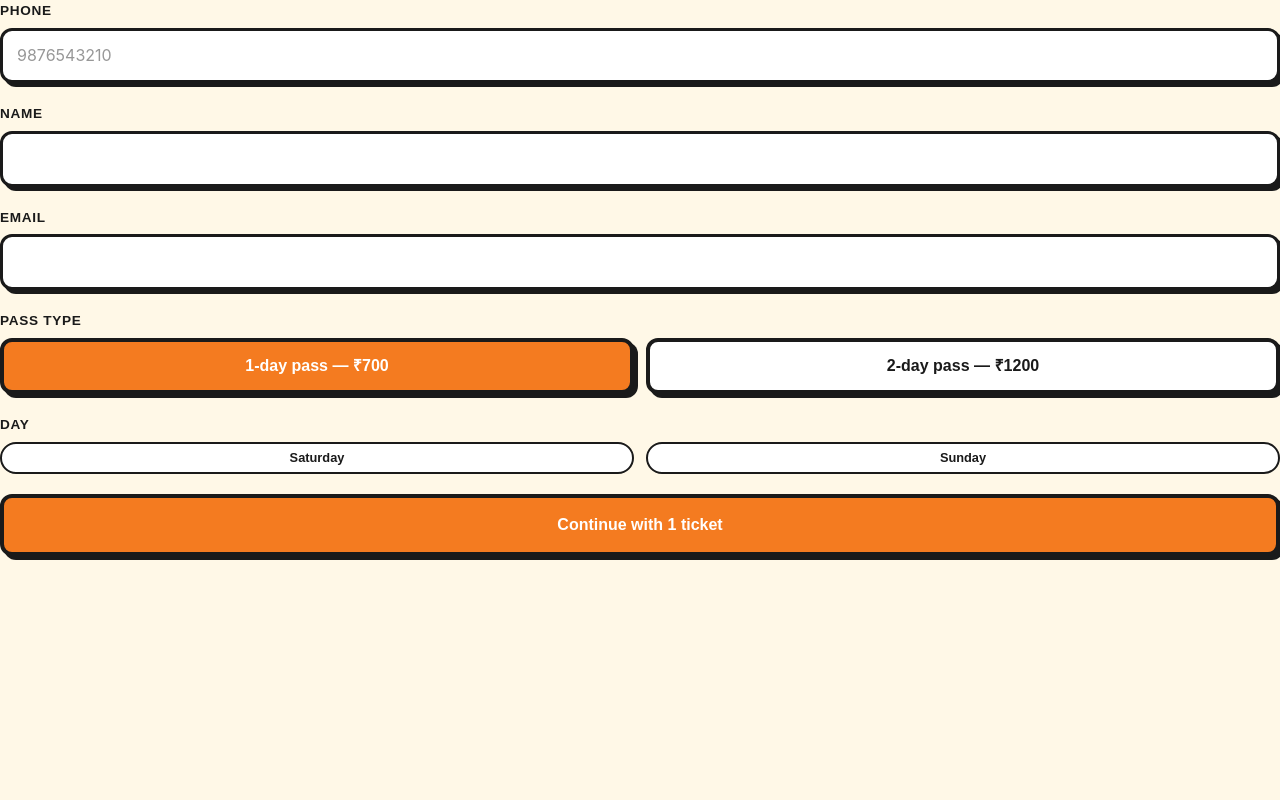
Scenario: RegisterForm › limits ticket quantity to live availability
The width and height of the screenshot is (1280, 800).
Click the radio button labelled "Saturday".
click(317, 458)  # box left=0, top=442, right=634, bottom=474
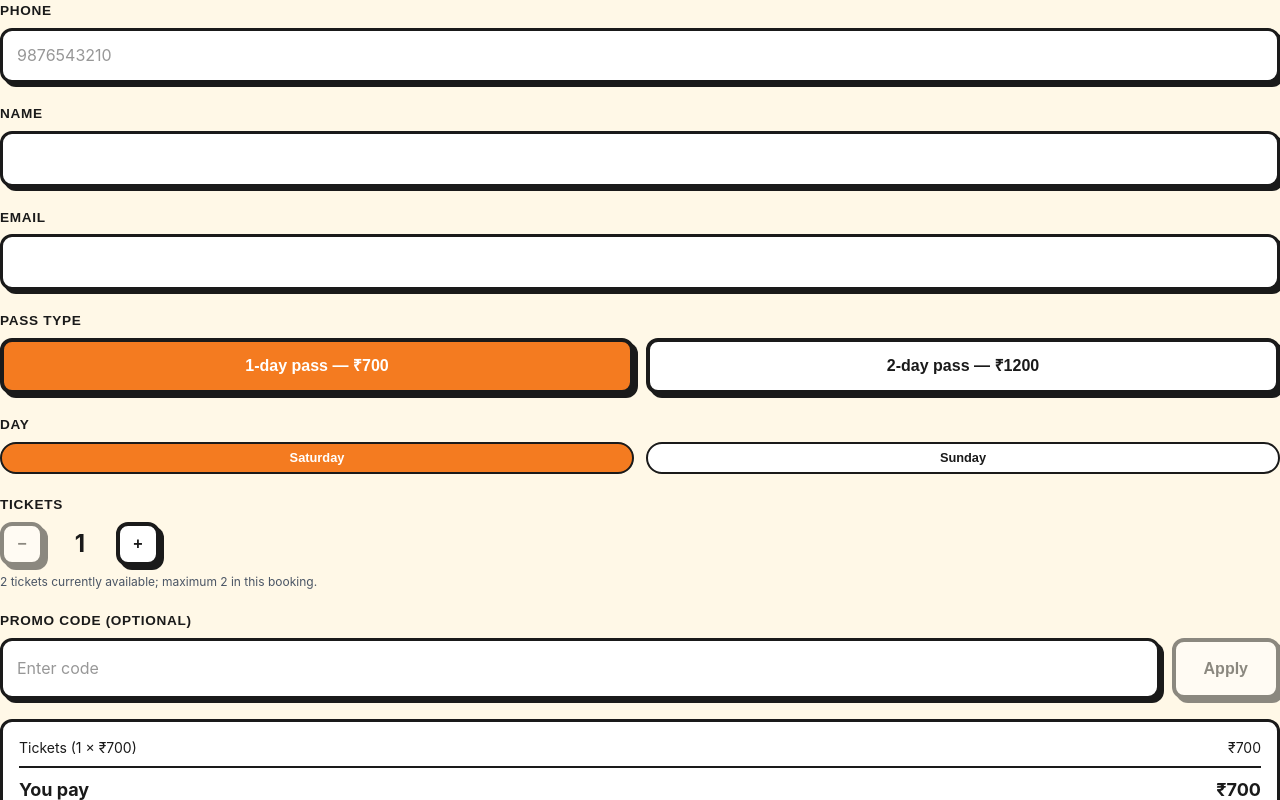
Click the button named "increase ticket quantity".
click(138, 544)  # box left=116, top=522, right=160, bottom=566
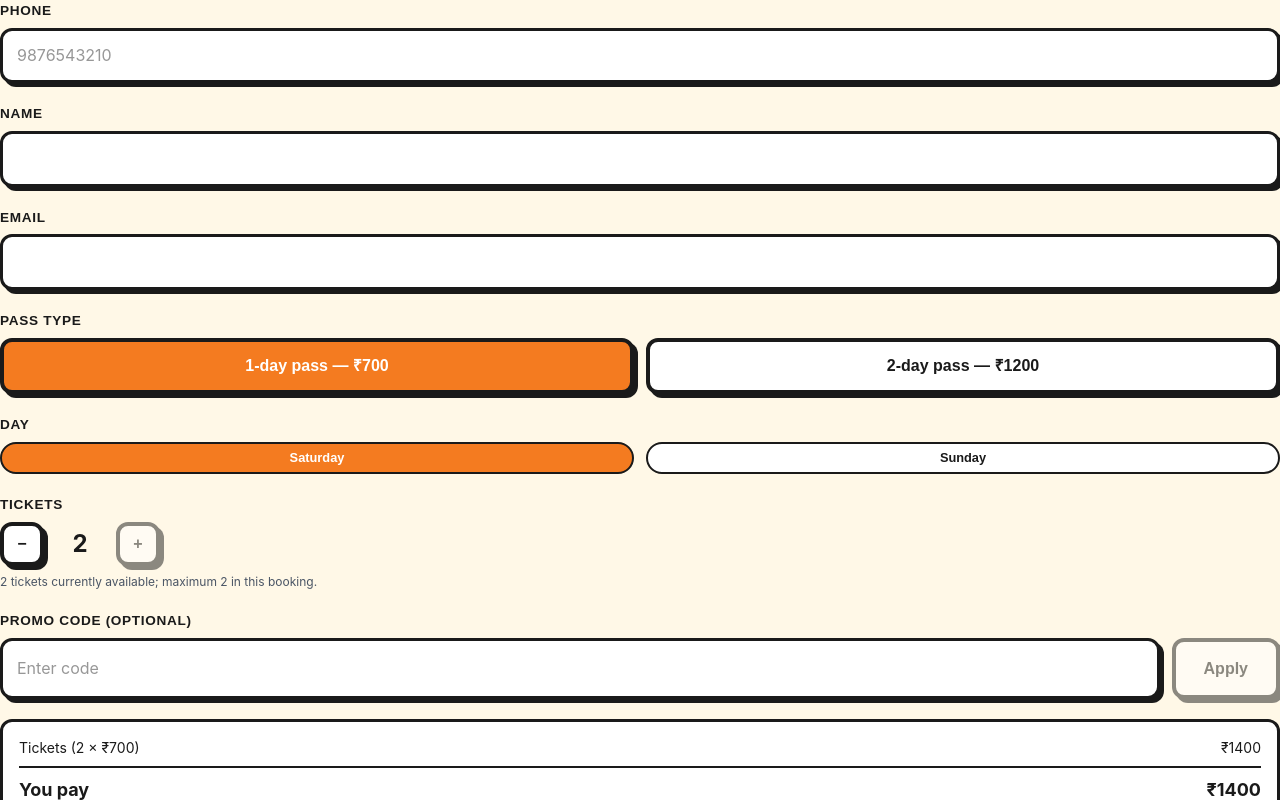
Check: the text "2 tickets currently available; maximum 2 in this booking." is shown, box left=0, top=574, right=317, bottom=589
Check: the button named "increase ticket quantity" is disabled, box left=116, top=522, right=160, bottom=566
Check: the text "Tickets (2 × ₹700)" is shown, box left=19, top=738, right=140, bottom=758
